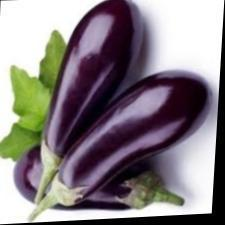eggplant: (33, 0, 214, 216)
